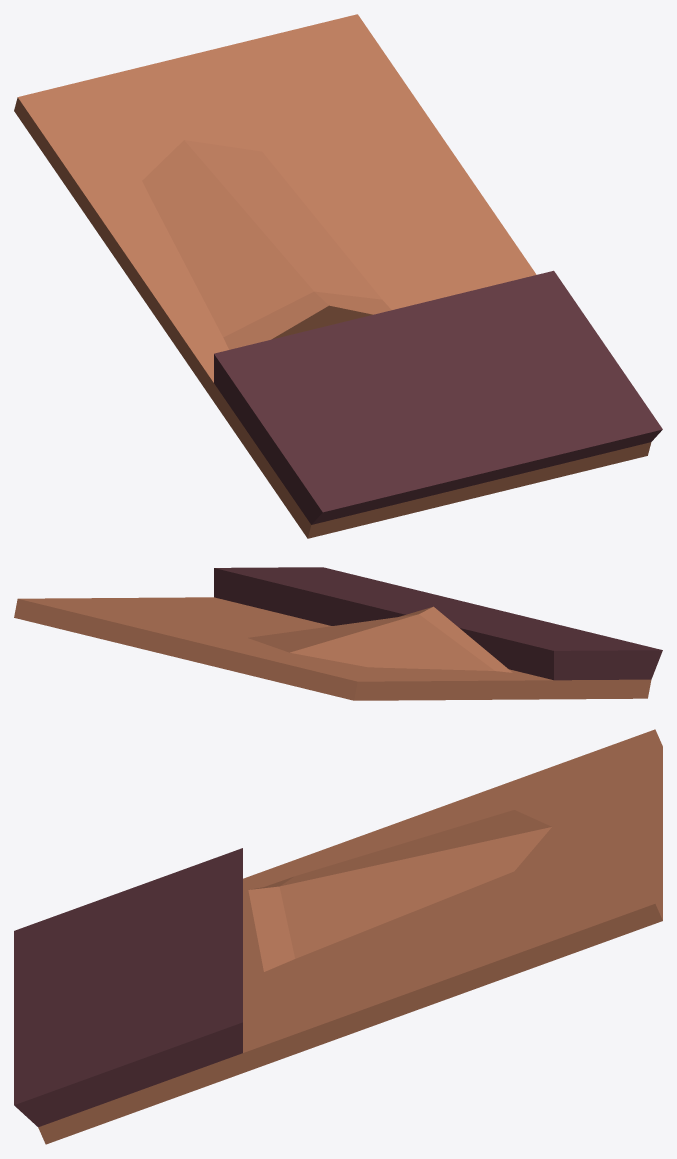
The model's file is empire-roof-acroterion-platform-r-small-1m-empire.glb.
3 renders of one model, top to bottom at view 1: azimuth 30°, elevation 25°; view 2: azimuth 150°, elevation 25°; view 3: azimuth 270°, elevation 25°, orthographic. The views are drawn at different scales.
Parts seen in each view (by area): view 1: SM_Roof_Acroterion_Platform_R_Small_1m_Empire; view 2: SM_Roof_Acroterion_Platform_R_Small_1m_Empire; view 3: SM_Roof_Acroterion_Platform_R_Small_1m_Empire.
Boxes of the visible parts, x1=… form: SM_Roof_Acroterion_Platform_R_Small_1m_Empire: x1=14, y1=14, x2=662, y2=538; SM_Roof_Acroterion_Platform_R_Small_1m_Empire: x1=14, y1=567, x2=662, y2=700; SM_Roof_Acroterion_Platform_R_Small_1m_Empire: x1=14, y1=729, x2=662, y2=1144.
Size of the model in its own units: 1 by 0.6467 by 1.58.
